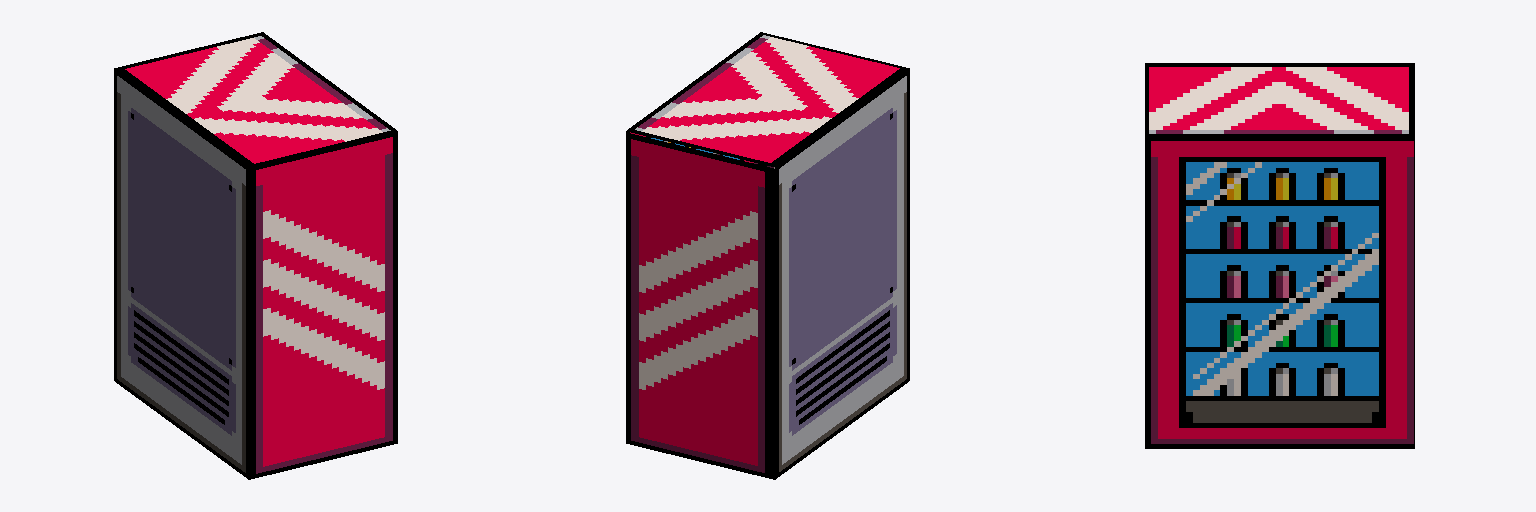
3 renders of one model, left to right at view 1: azimuth 30°, elevation 25°; view 2: azimuth 150°, elevation 25°; view 3: azimuth 270°, elevation 25°, orthographic.
Parts seen in each view (by area): view 1: machine; view 2: machine; view 3: machine.
Part boxes in pixels (x1,y1,x2,y2): machine: (114, 32, 397, 479); machine: (626, 32, 909, 479); machine: (1145, 63, 1414, 448).
Bounding box in the file's own units: 3.5 × 7 × 5.5.
Materials: 1 (1 with a texture image).